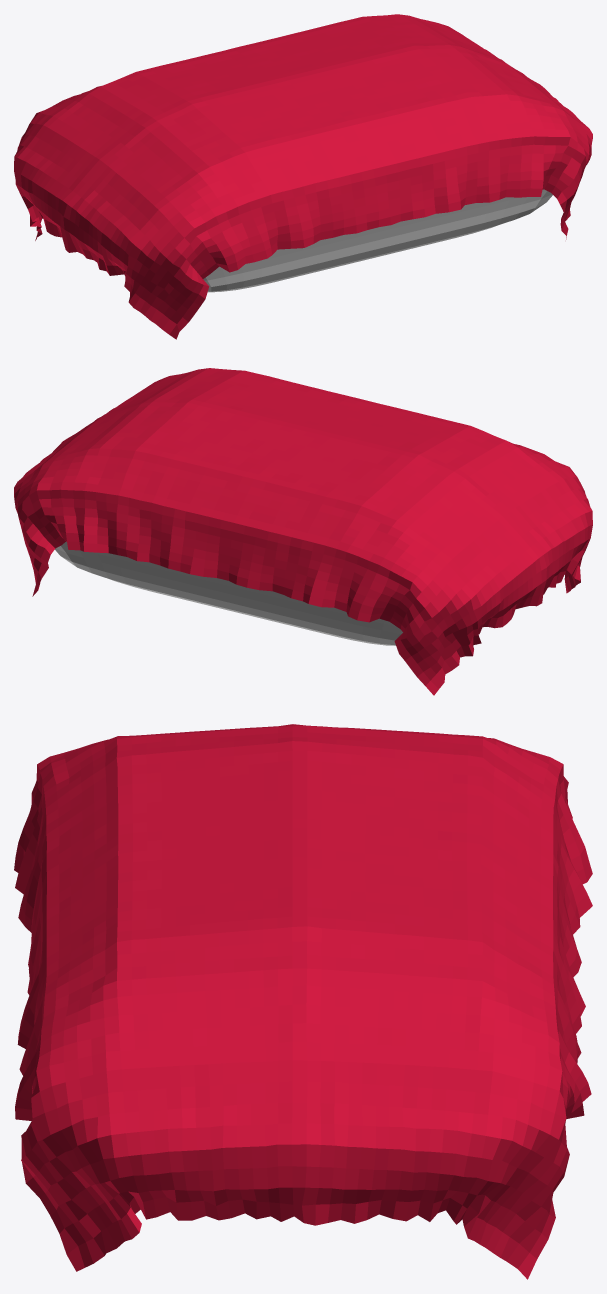
File: Bantal.fbx
3 views of the same model, one above another, from view 1: azimuth 30°, elevation 25°; view 2: azimuth 150°, elevation 25°; view 3: azimuth 270°, elevation 25° (orthographic). The views are drawn at different scales.
Parts seen in each view (by area): view 1: Plane, Cube; view 2: Plane, Cube; view 3: Plane.
Boxes of the visible parts, bbox=[...] form: Plane: bbox=[14, 14, 592, 339]; Cube: bbox=[203, 189, 552, 292]; Plane: bbox=[14, 368, 592, 695]; Cube: bbox=[55, 541, 402, 645]; Plane: bbox=[14, 724, 592, 1279].
Size of the model in its own units: 404 by 135 by 251.
